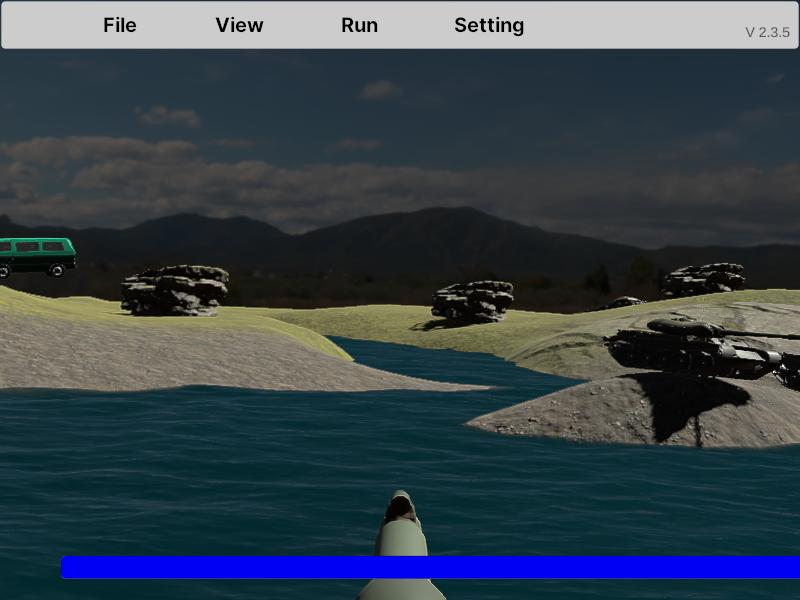Tank: (604, 316, 800, 378)
car: (0, 237, 77, 279)
